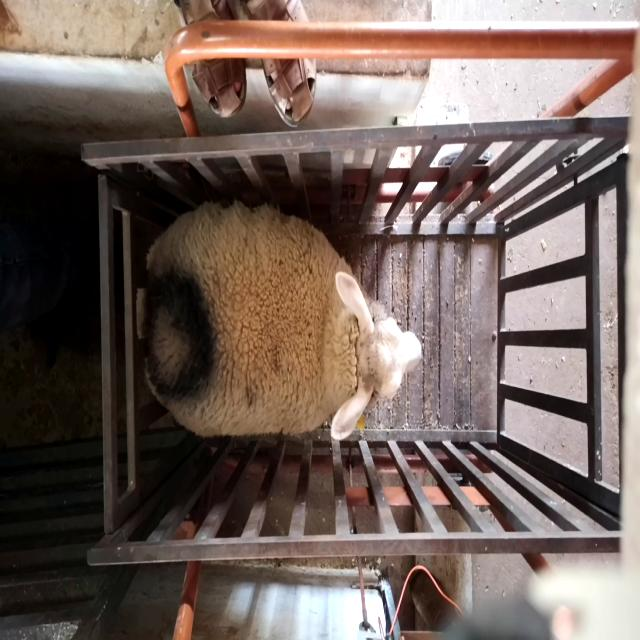sheep: (136, 199, 423, 440)
